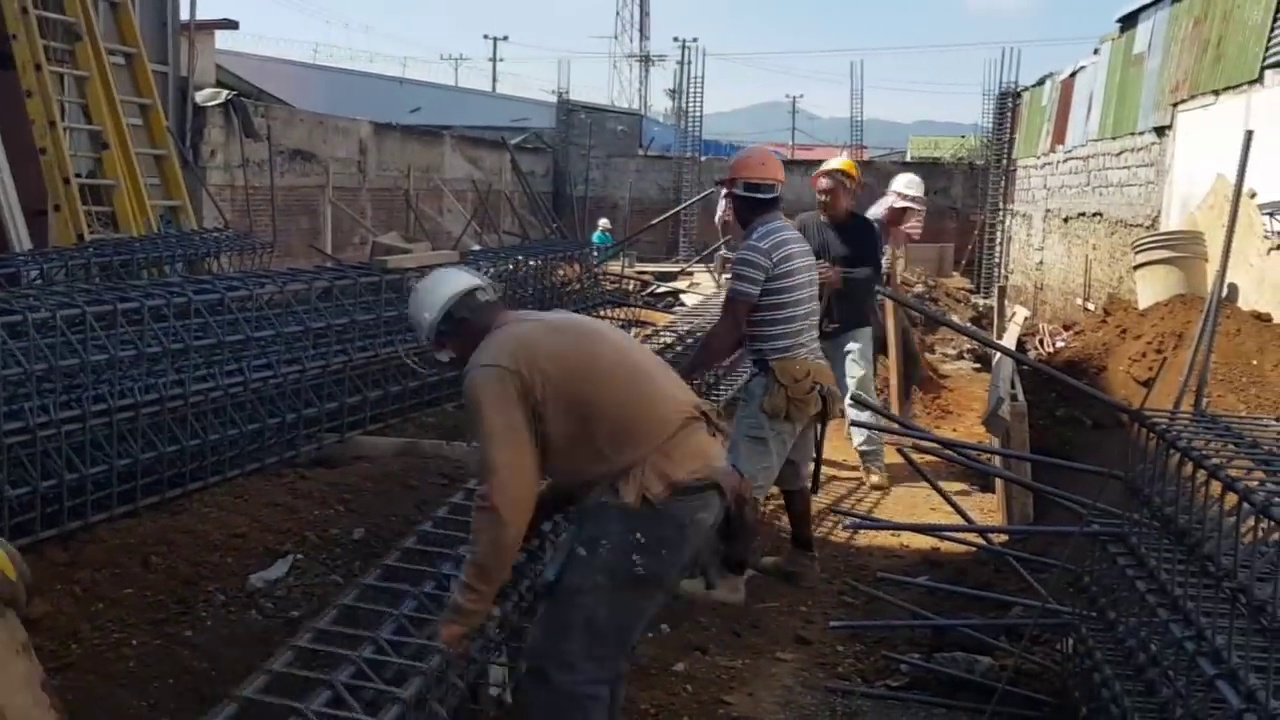helmet: (407, 266, 497, 362), (720, 145, 790, 194), (812, 157, 857, 187), (888, 173, 927, 201), (597, 218, 612, 230)
helmet-on: (408, 265, 510, 368), (719, 140, 791, 239), (881, 175, 934, 243), (816, 158, 863, 224), (596, 218, 613, 234)
person: (407, 266, 738, 719), (683, 144, 819, 602), (811, 154, 901, 485), (865, 174, 933, 359), (590, 218, 614, 257)
